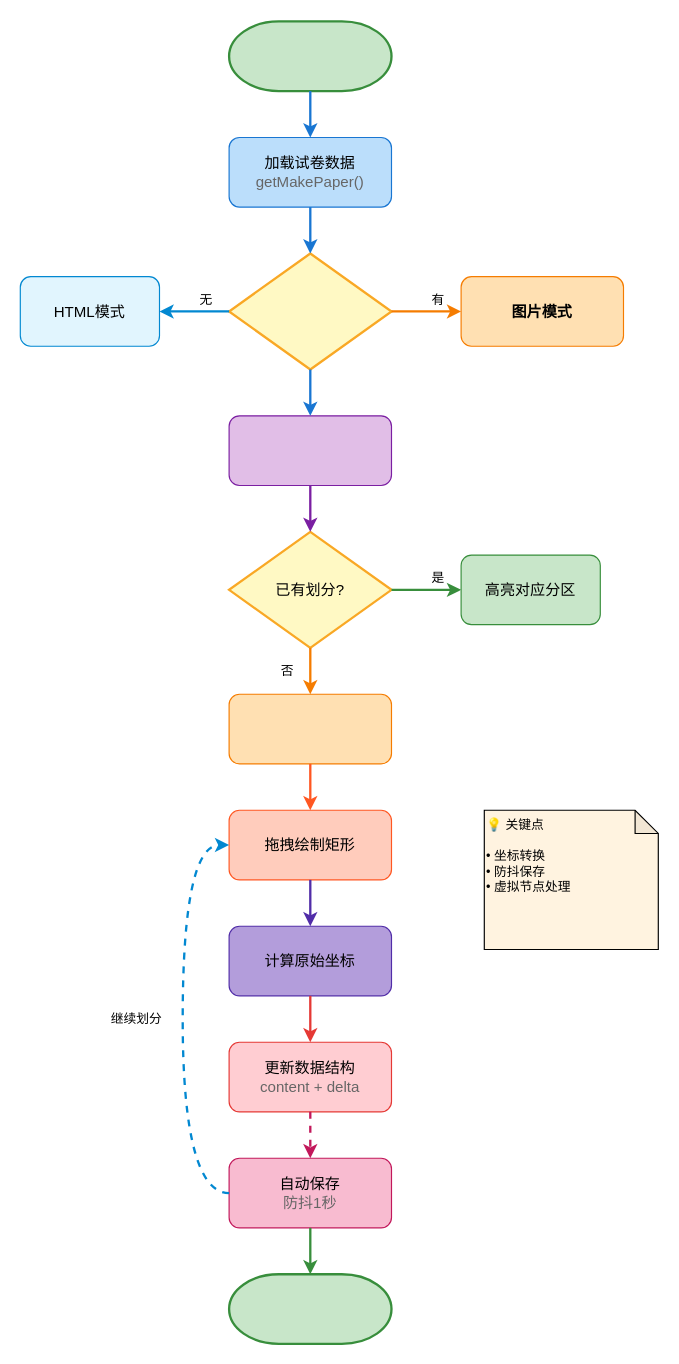
This 679x1364 diagram has some shape labels left out. The shapes that lost their labels are listed below. From the top down, each one's box as (x1, y1, x2, y2) in pixels, then its label:
(227, 20, 392, 92): 进入页面
(227, 252, 392, 370): 有图片文件?
(228, 415, 392, 485): 点击题目节点 (题干/答案/解析)
(228, 693, 392, 764): 进入绘制模式
(227, 1273, 392, 1344): 完成
